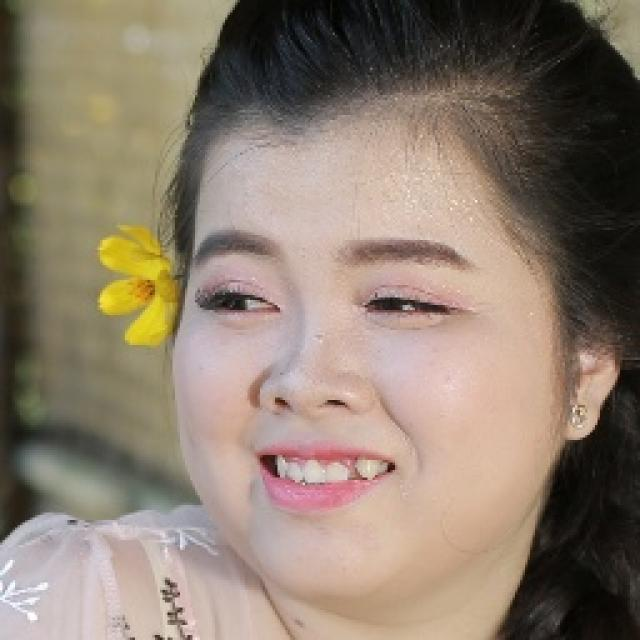earlobe: (563, 394, 601, 442)
eye: (364, 286, 445, 323), (203, 287, 280, 319)
nose: (263, 401, 365, 436)
wholeear: (562, 274, 626, 441)
